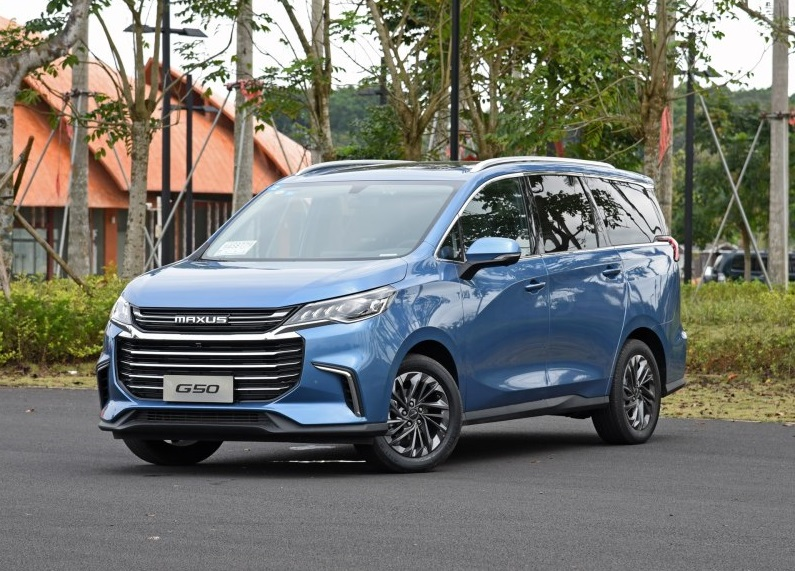car: (95, 156, 686, 473)
